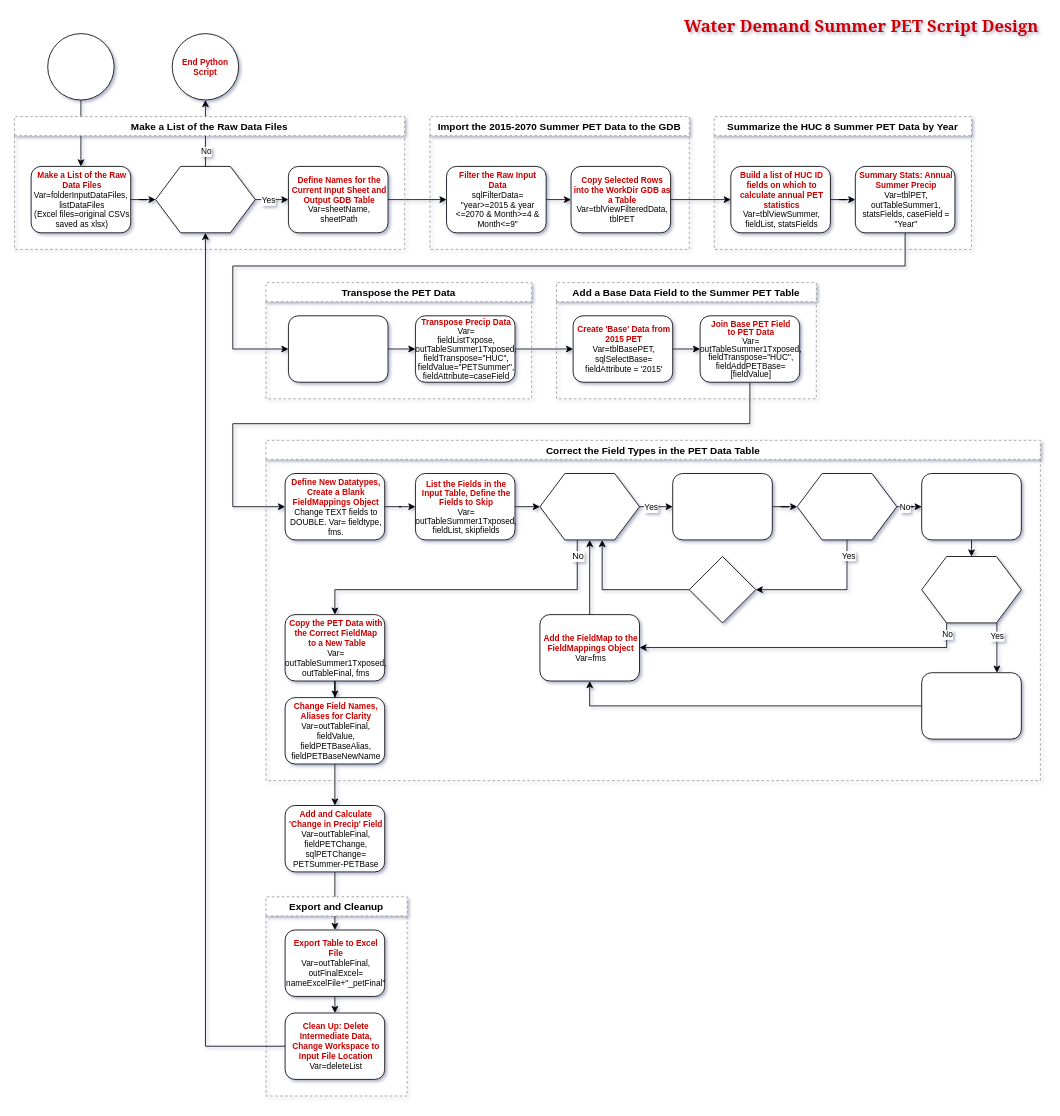
Image size: 1060x1116. Some labels were removed from this diagram. The centre of each missing label's shape, as x and y in pixels:
"Create a List of Fieldnames to Transpose Var=outTableSummer1" goes at pixel 338 348.
"Create a Temporary, Blank FieldMap and Add the Input Field Info to it Var=fm" goes at pixel 971 506.
"Does the field name match one you wish to modify?" goes at pixel 971 589.
"Get the Name of the Current Field Var=field" goes at pixel 722 506.
"Is the field name in the Skip List? Var=skipfields" goes at pixel 846 506.
"Is there another Excel file in the list? Var= file" goes at pixel 205 199.
"Loop Through the Fields List Is there another field in fieldList? Var=fieldList" goes at pixel 589 506.
"Skip over this field" goes at pixel 722 589.
"Start Python Script" goes at pixel 80 66.
"Update the Field Type and add the Field Info to the FieldMap Var=fm, fieldtype" goes at pixel 971 705.
